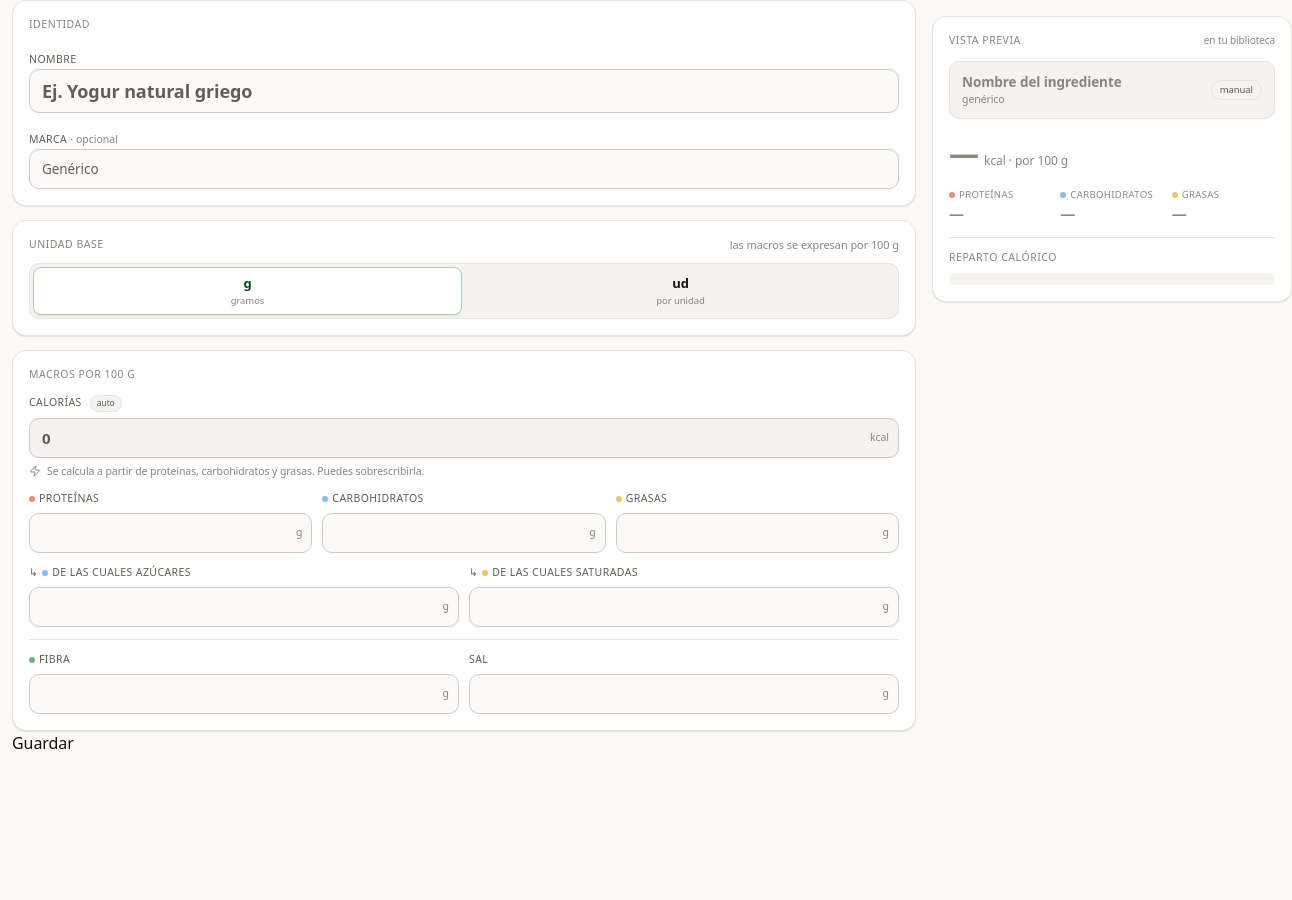
Test case: auto-kcal › "volver a automático" gives the derivation back
Type "10" into the field labelled "Proteínas". click: (171, 533)
box: left=29, top=513, right=312, bottom=553
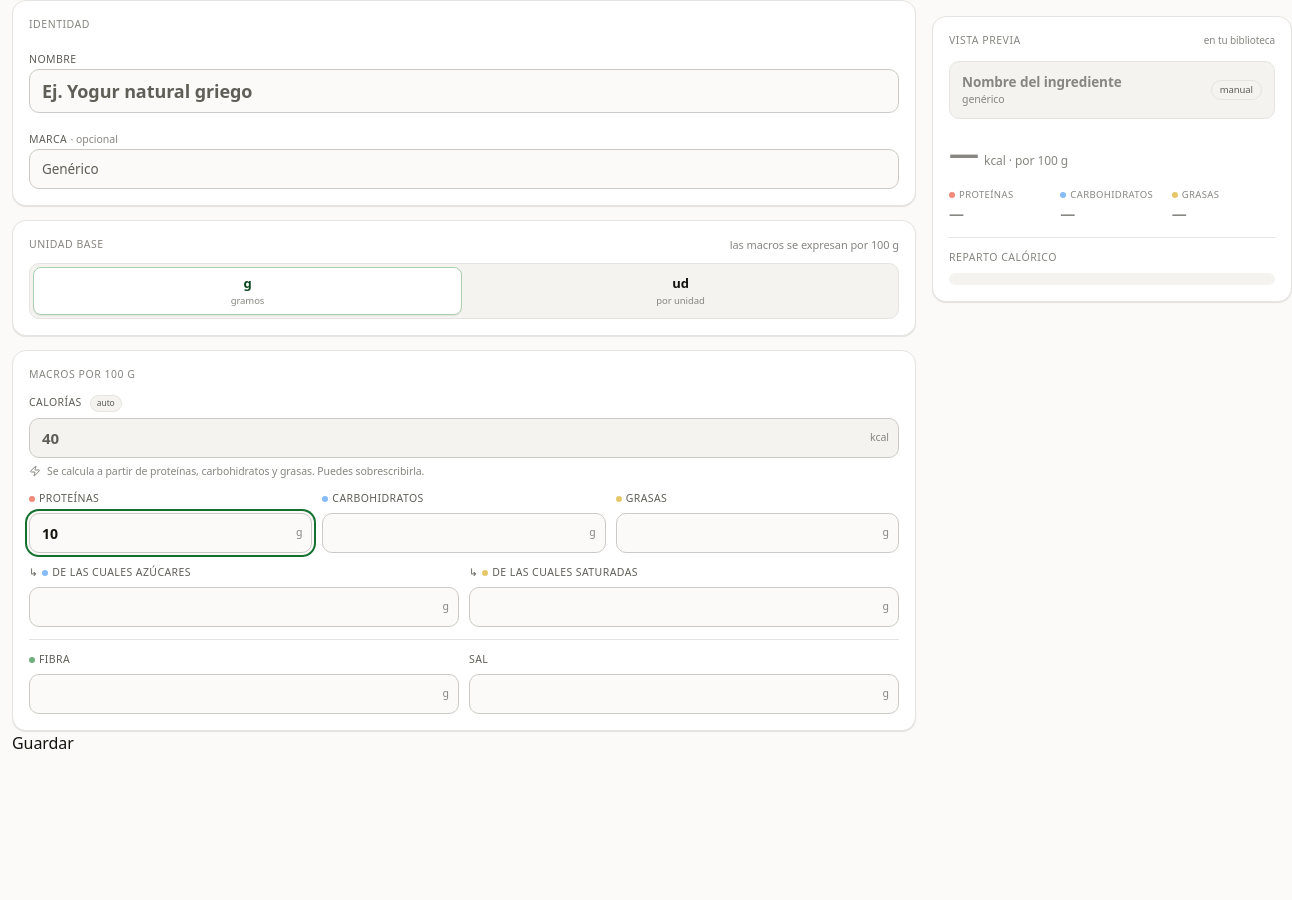
Type "20" into the field labelled "Carbohidratos". click: (464, 533)
box: left=322, top=513, right=606, bottom=553
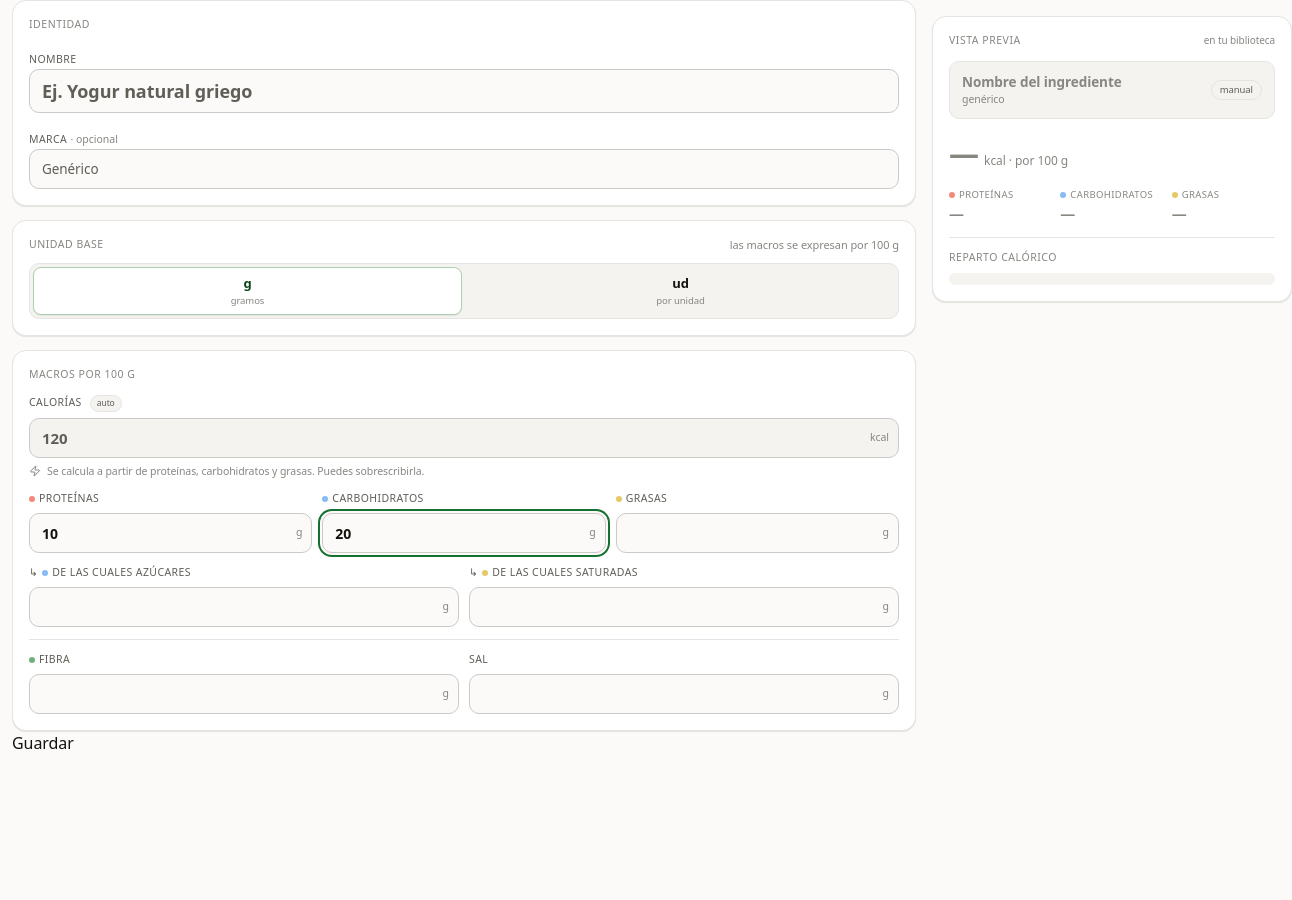
Type "5" into the field labelled "Grasas". click: (757, 533)
box: left=616, top=513, right=899, bottom=553
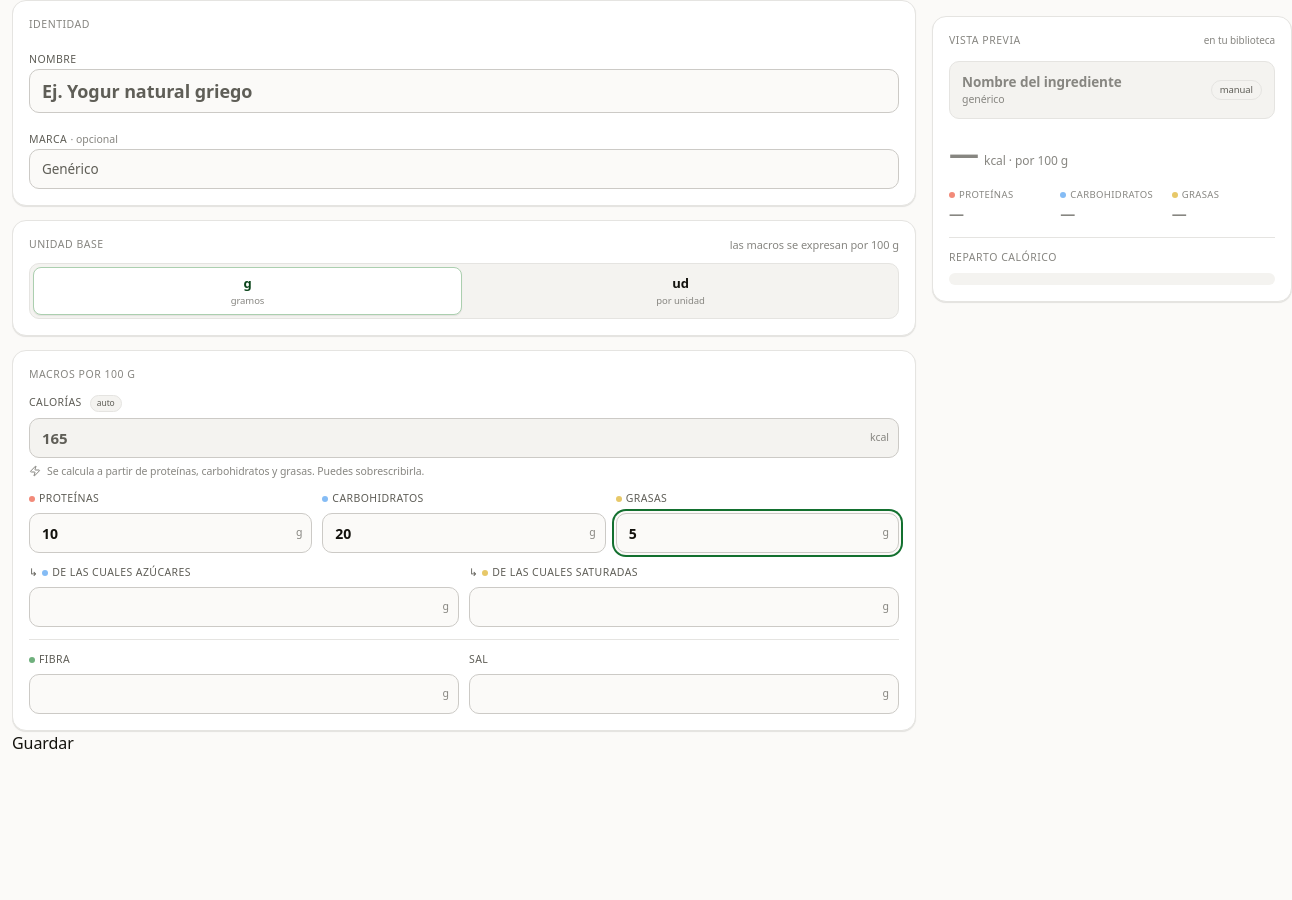
Clear the field labelled "Calorías". click: (464, 438)
box: left=29, top=418, right=899, bottom=458
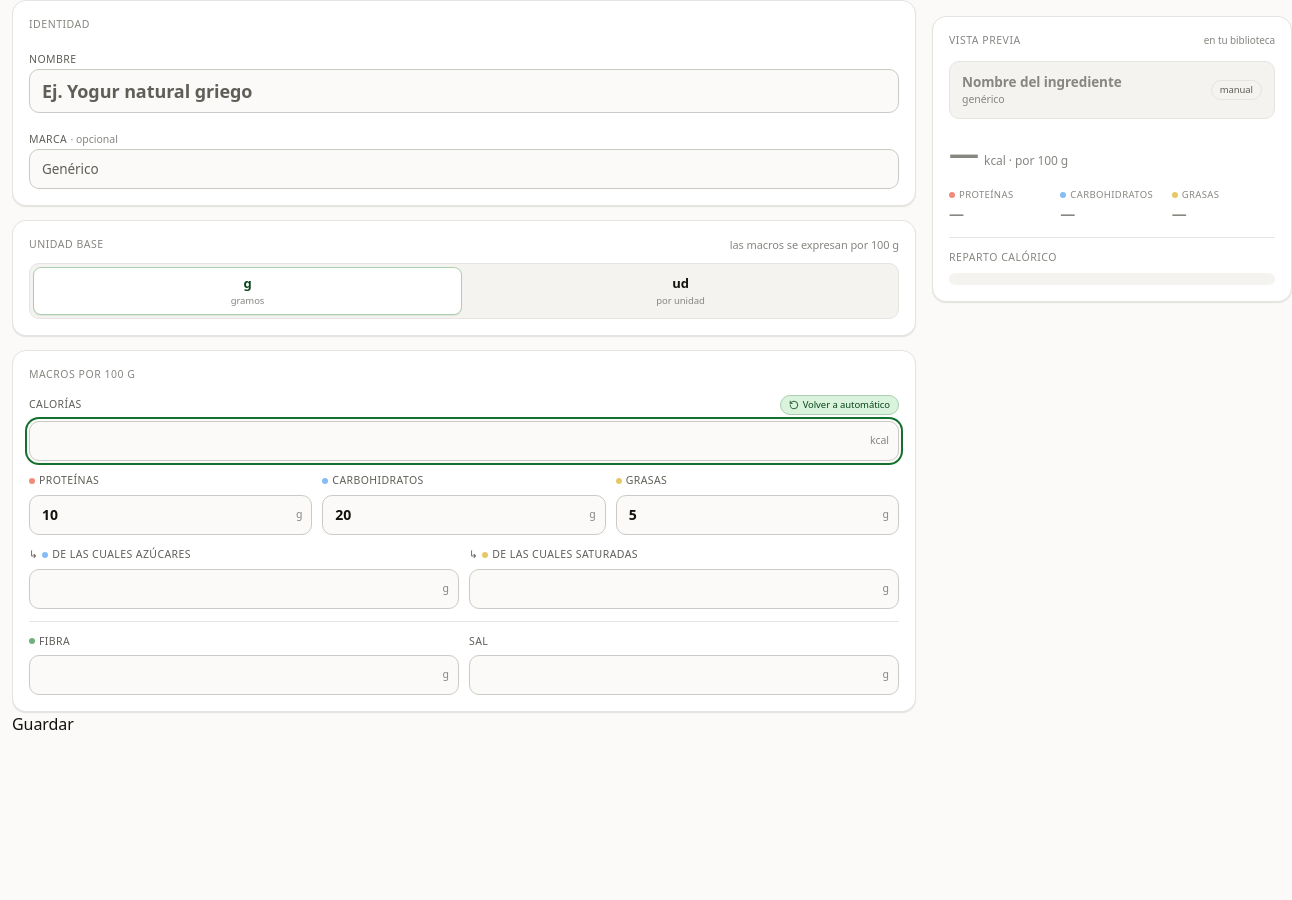
Type "200" into the field labelled "Calorías". click: (464, 441)
box: left=29, top=421, right=899, bottom=461
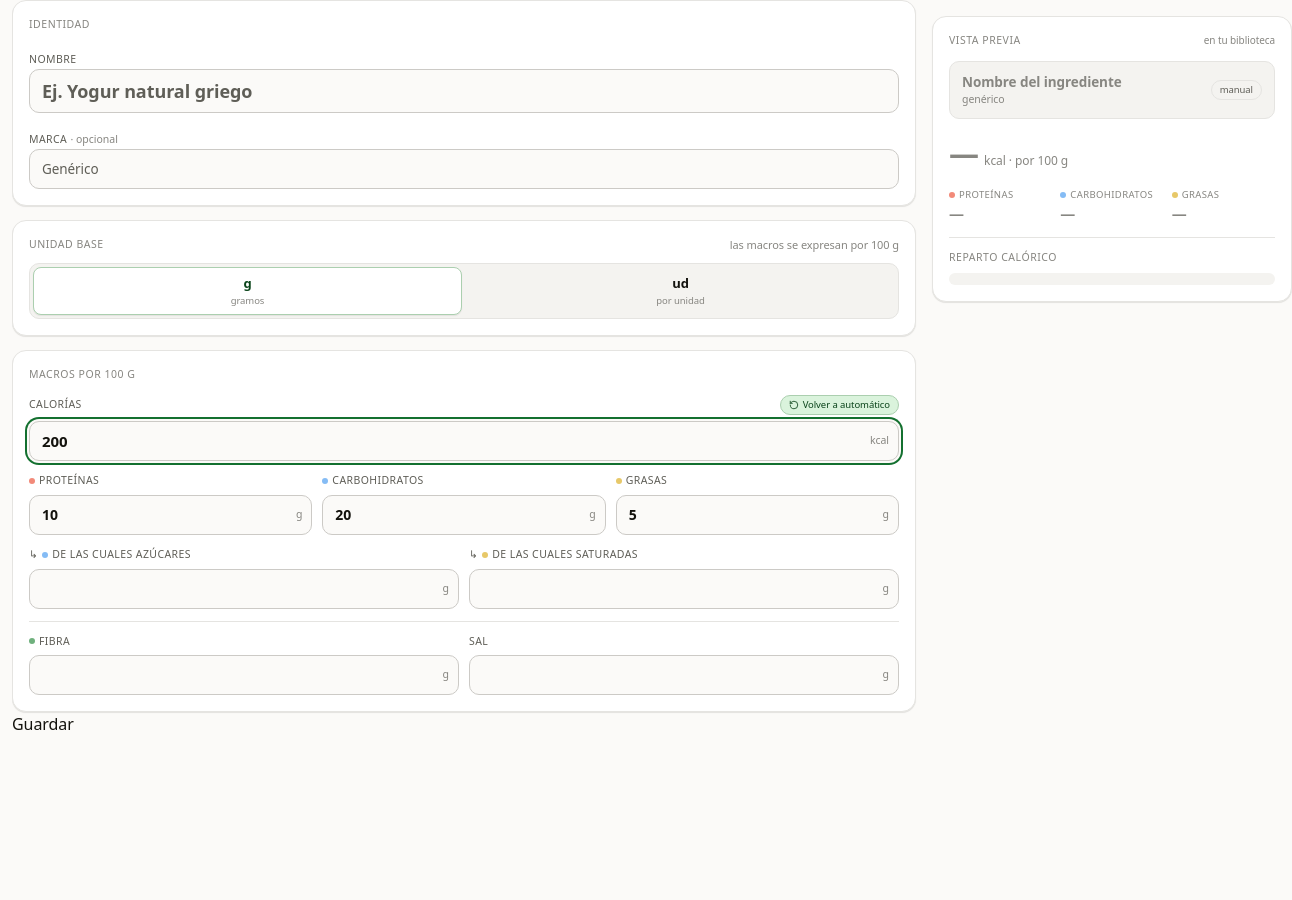
Click the button "Volver a automático". click: (839, 405)
box: left=780, top=395, right=899, bottom=415
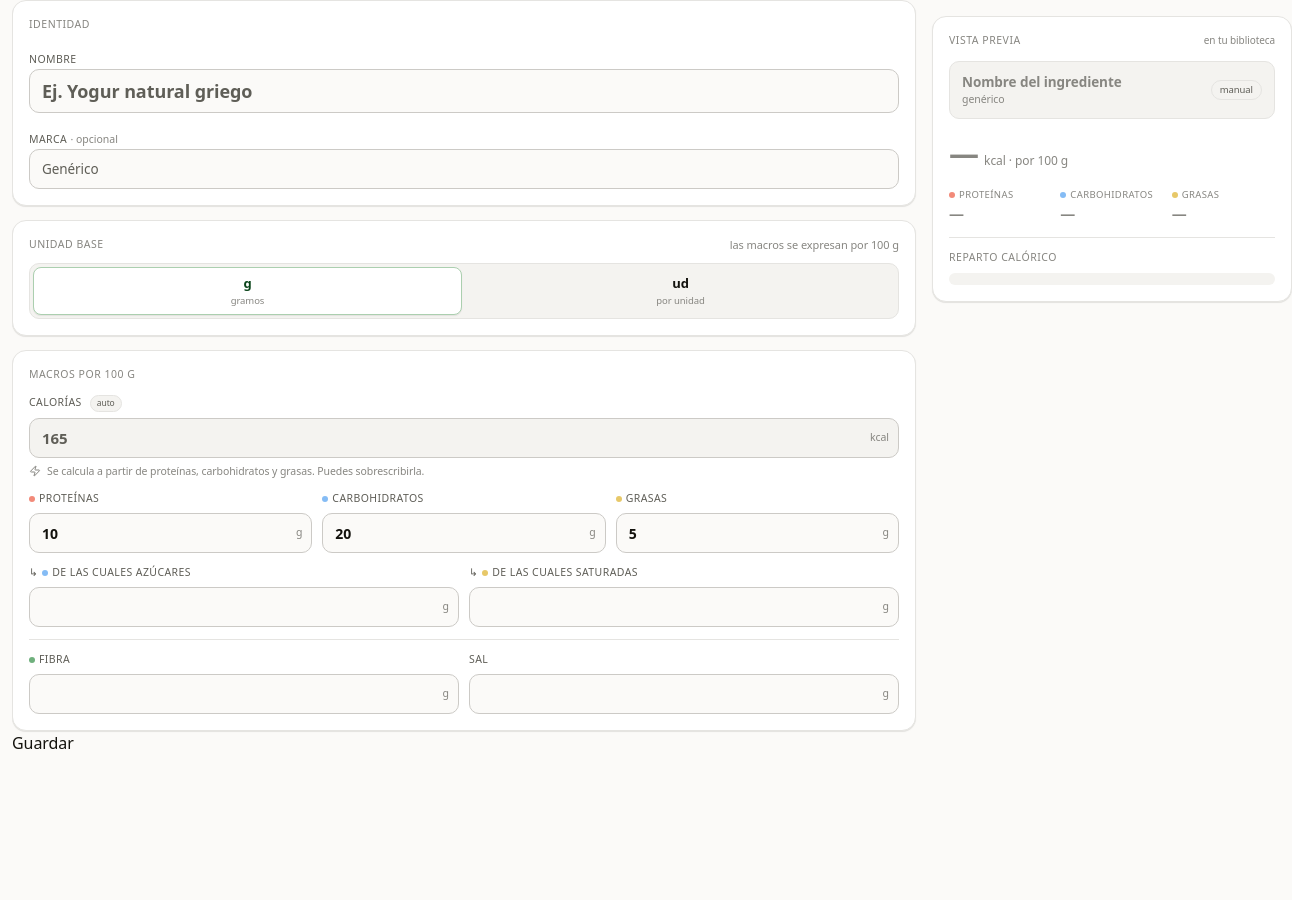
Expected: the text "auto" is shown, left=90, top=395, right=122, bottom=412
Result: the field labelled "Calorías" holds "165" at left=29, top=418, right=899, bottom=458
